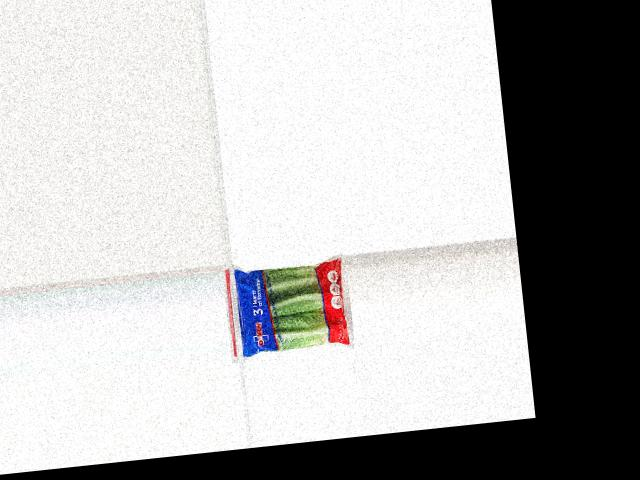lettuce: (228, 256, 354, 362)
